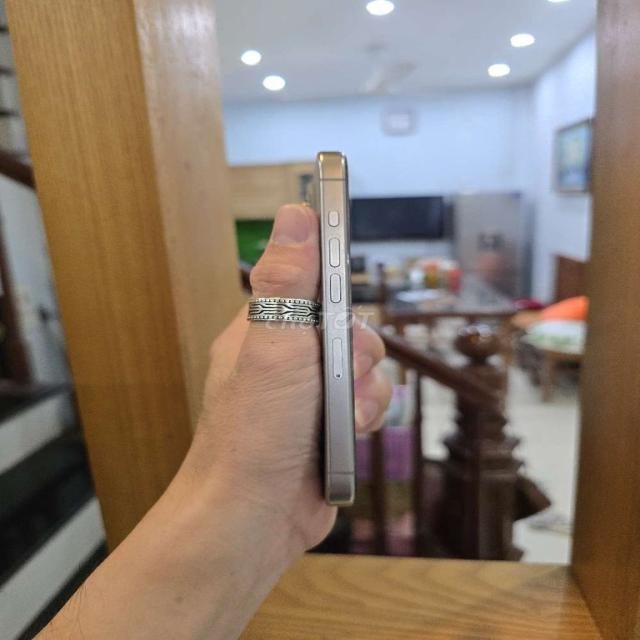gen_15: (307, 144, 367, 514)
